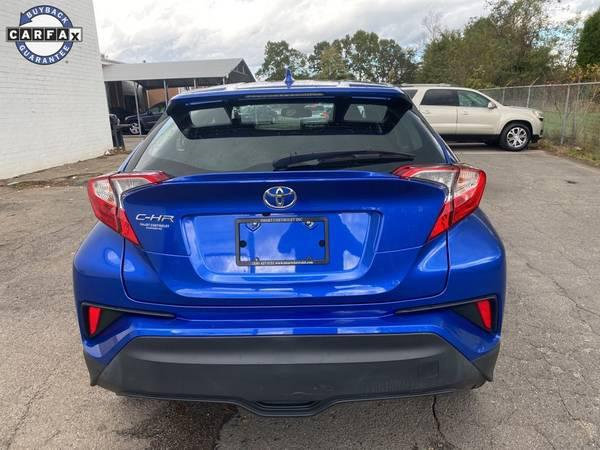Left_Taillight: (87, 172, 170, 248)
Rear_Bumper: (69, 204, 505, 409)
Rear_Windshield: (120, 97, 451, 172)
Right_Taillight: (392, 163, 483, 241)
Roof: (168, 84, 414, 111)
Tailgate: (123, 171, 447, 307)
